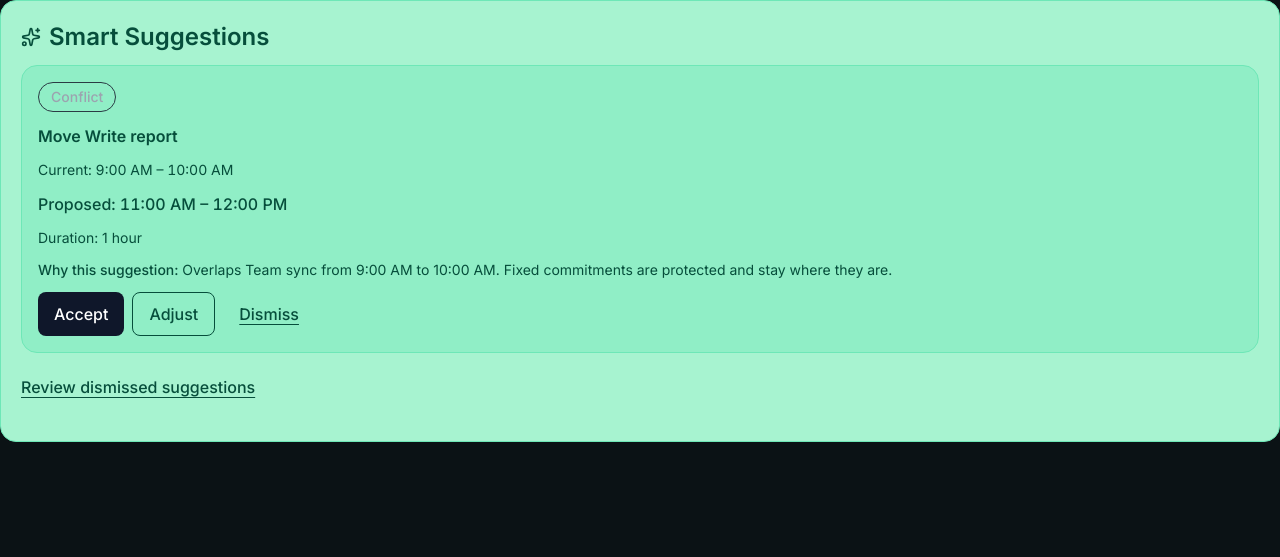
Scenario: SmartSuggestions states and responsive contract › shows the dismissed review alongside active cards
The width and height of the screenshot is (1280, 557).
Click the button "Review dismissed suggestions" at [138, 387], box [21,365,255,409]
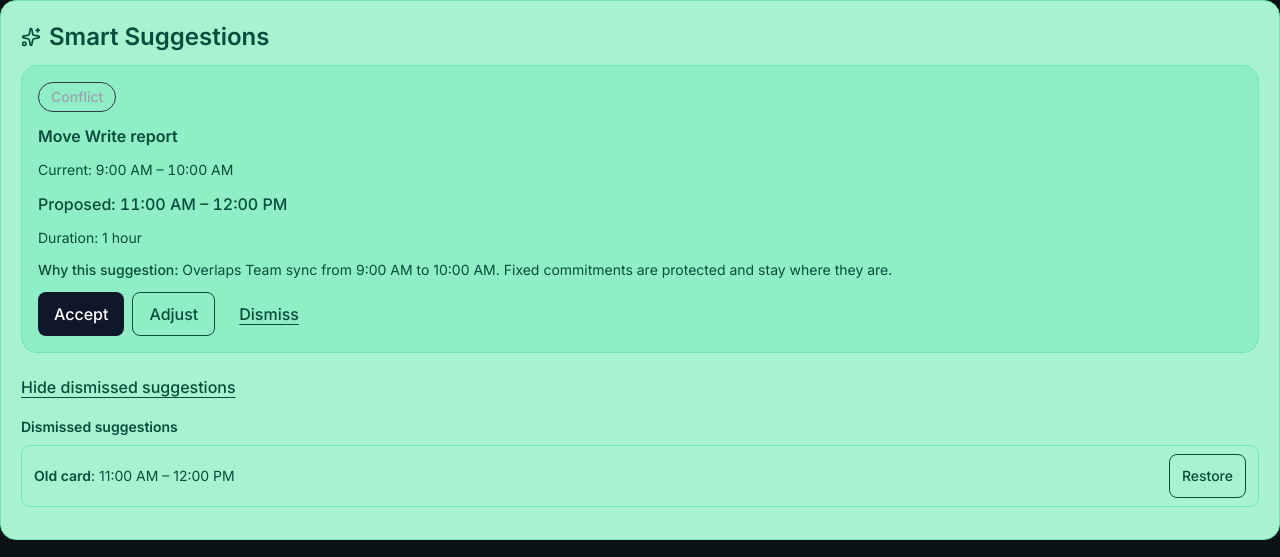
Check: the text "Old card" is shown, box [34,467,91,484]
